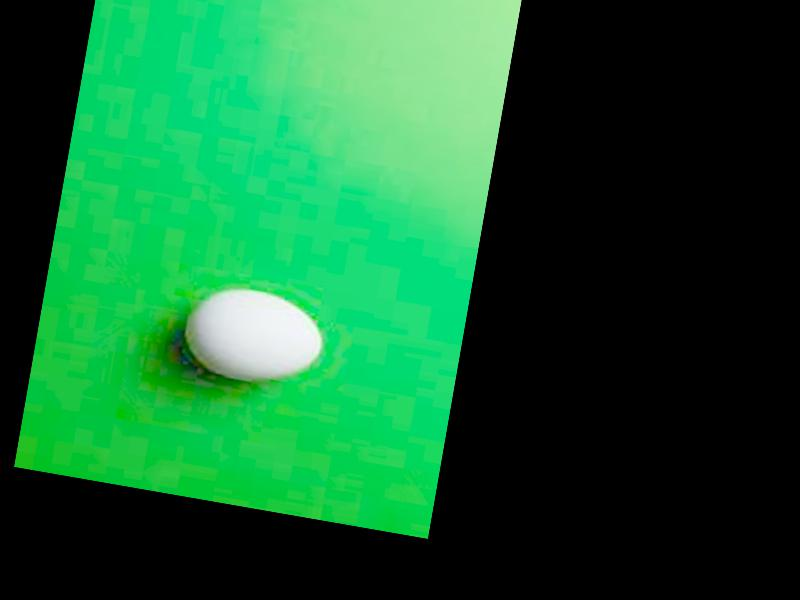Eggs: (179, 282, 329, 392)
